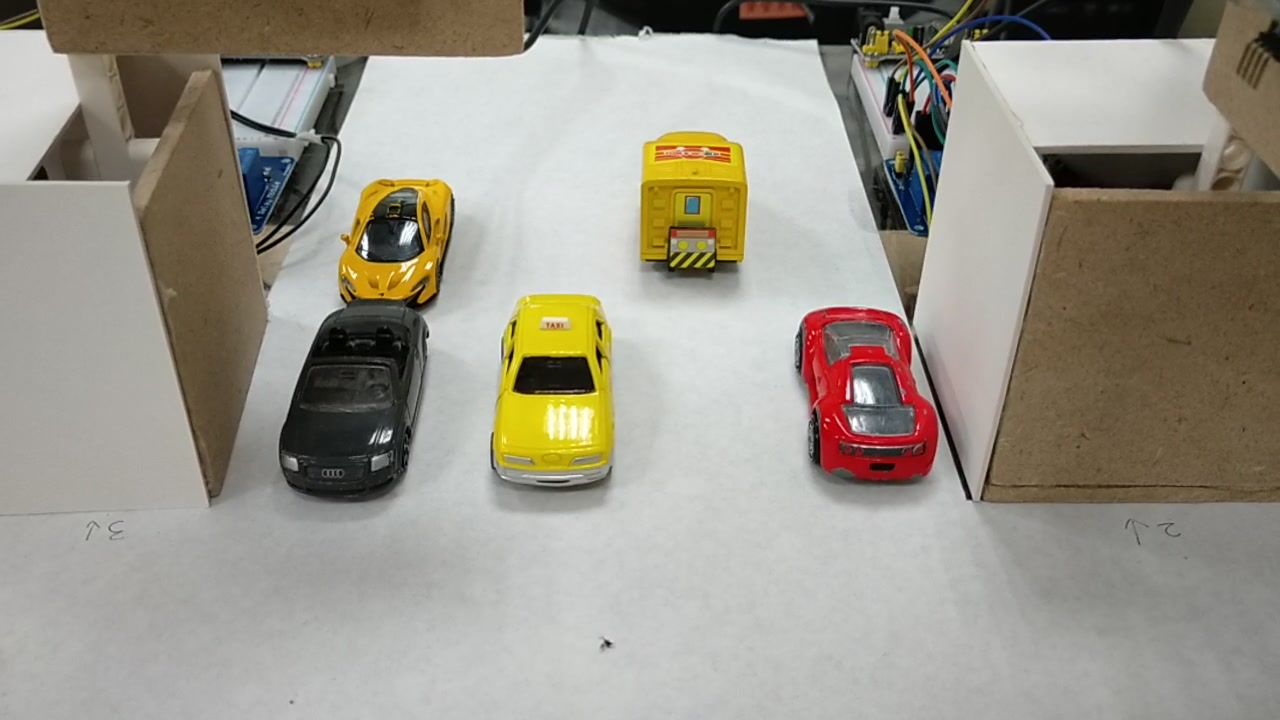car: (278, 303, 430, 497), (805, 298, 924, 488), (497, 295, 614, 488), (339, 176, 446, 297)
